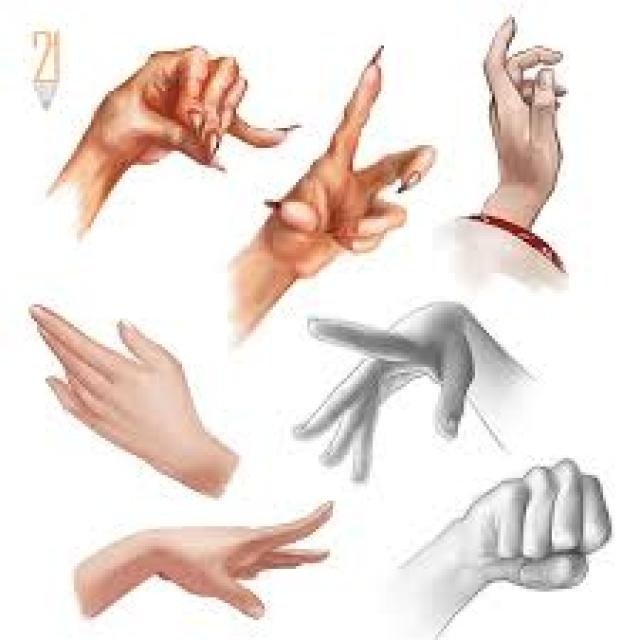hand: (51, 27, 292, 256)
